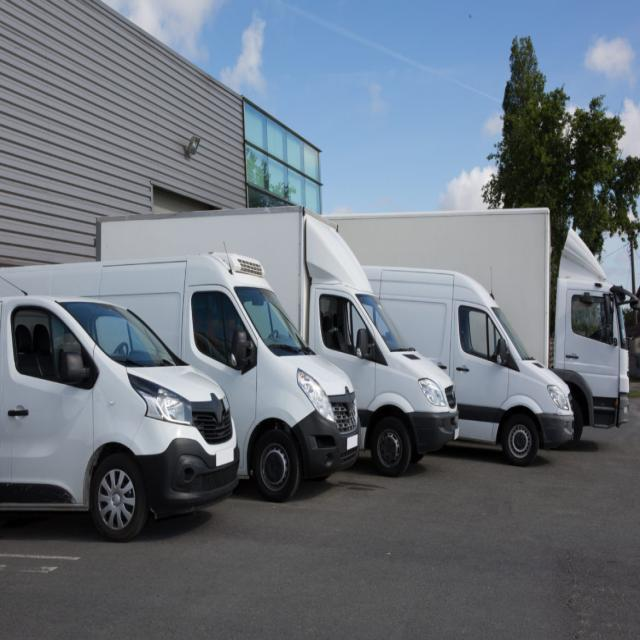truck: (97, 204, 459, 477), (0, 247, 360, 502), (0, 293, 240, 541), (360, 263, 574, 466)
